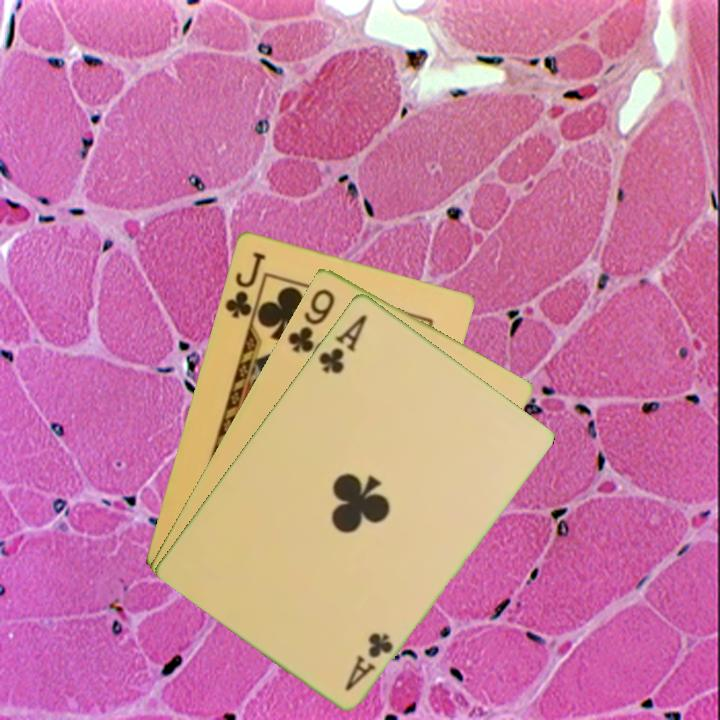9c: (284, 284, 338, 355)
Ac: (314, 309, 370, 376), (341, 628, 396, 694)
Jc: (221, 247, 268, 328)
